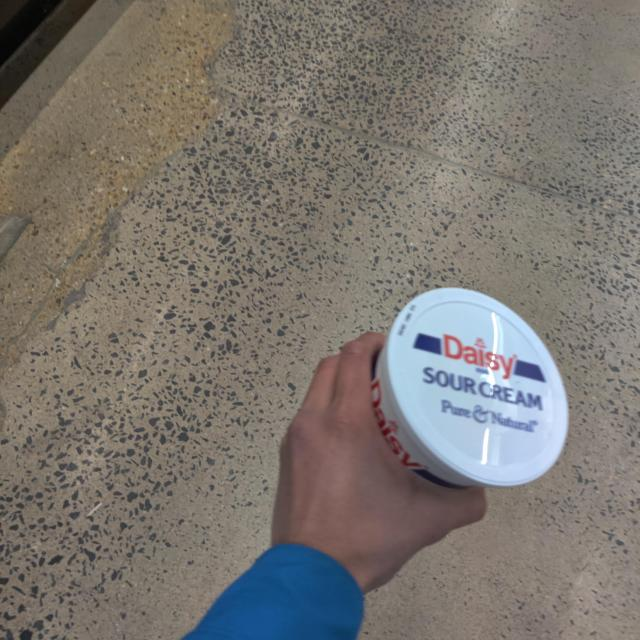Yogurt: (367, 284, 575, 492)
